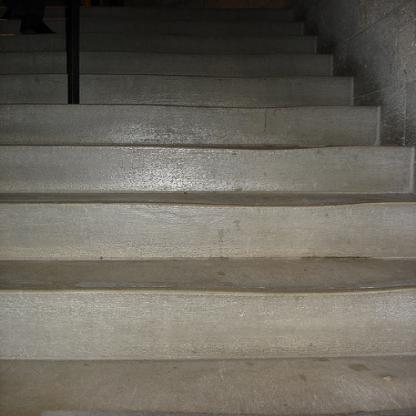stairs: (3, 107, 385, 416)
